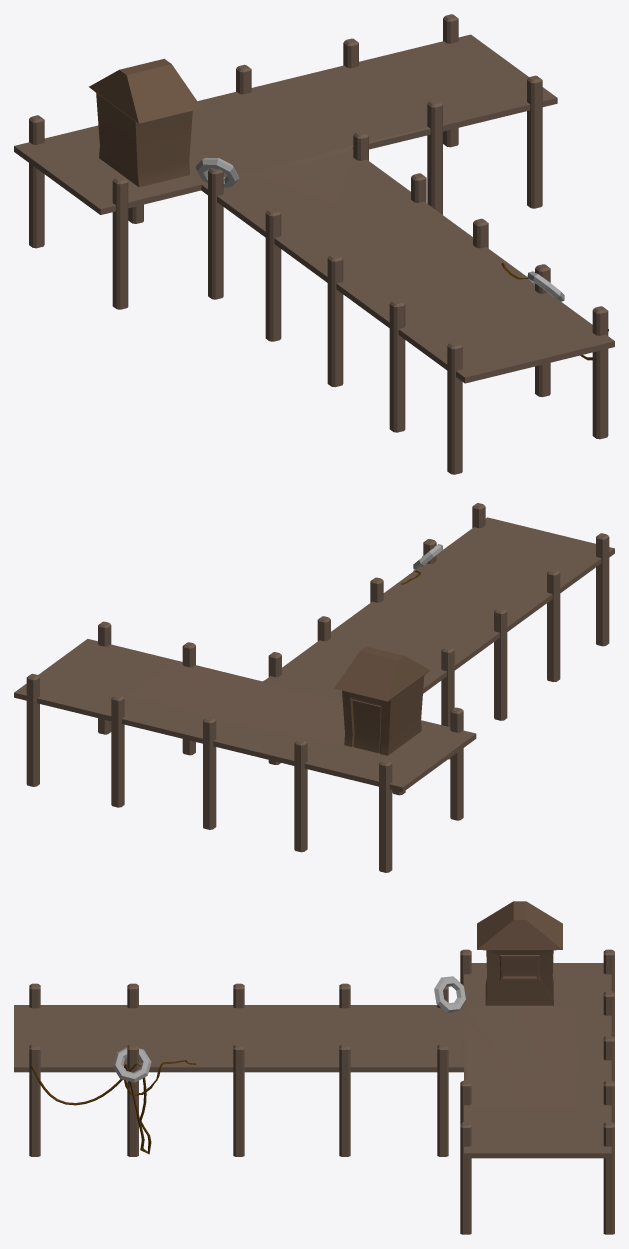
Rendered from Port.fbx.
The picture shows the model from 3 angles, top to bottom: view 1: azimuth 30°, elevation 25°; view 2: azimuth 150°, elevation 25°; view 3: azimuth 270°, elevation 25°; orthographic projection. The views are drawn at different scales.
Parts seen in each view (by area): view 1: polySurface22; view 2: polySurface22; view 3: polySurface22.
Boxes of the visible parts, box(x1,y1,x2,y2) form: polySurface22: box(14, 14, 614, 474); polySurface22: box(14, 503, 614, 872); polySurface22: box(14, 901, 614, 1234).
Size of the model in its own units: 14.01 by 5.94 by 18.71.
